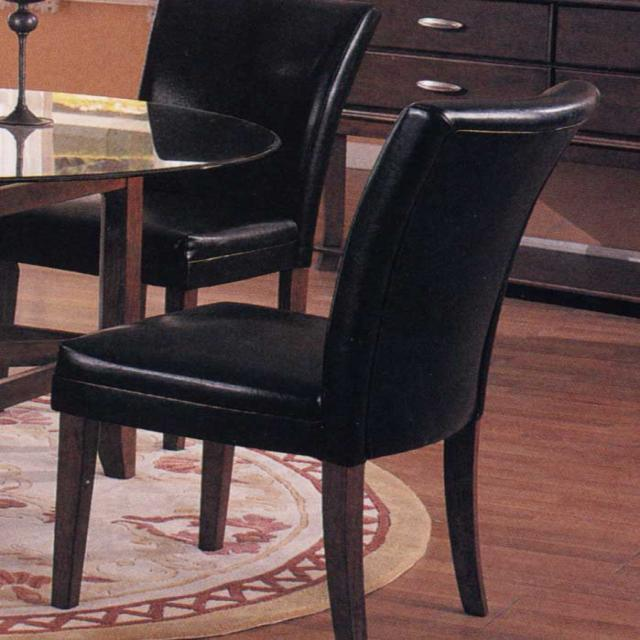chair: (47, 77, 600, 639)
